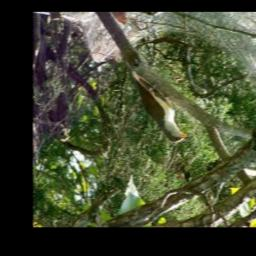Cuckoo: (120, 53, 189, 146)
